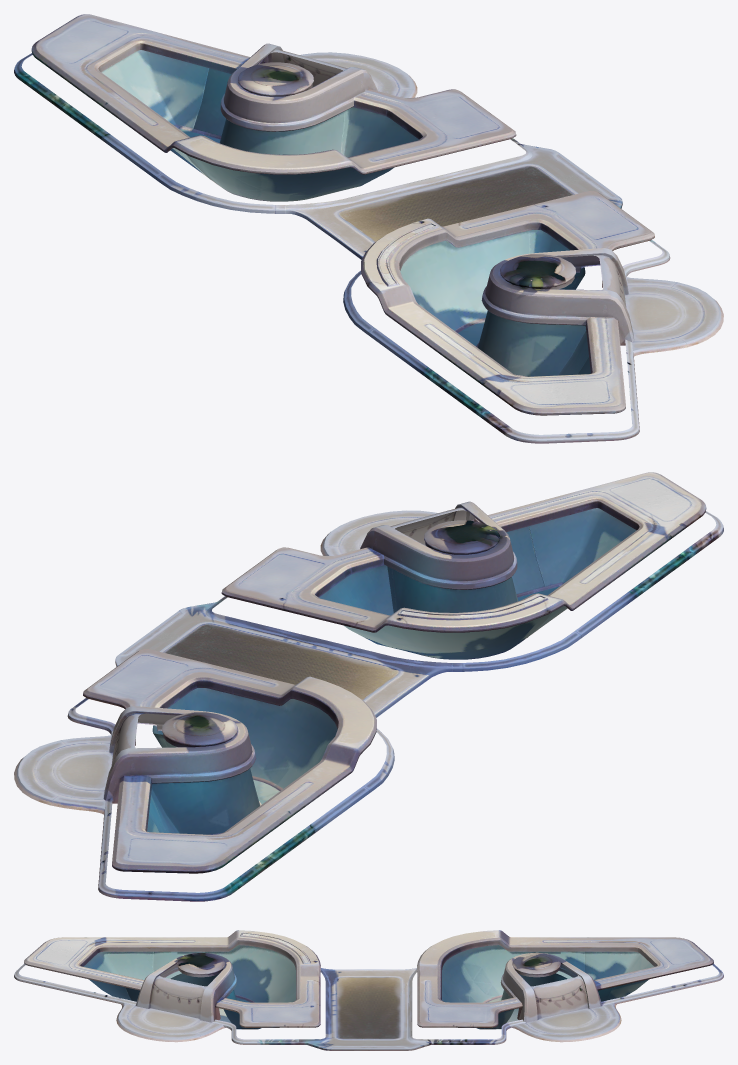
The model's file is pref_sm_beach_winter_bakegroups07_lv2.fbx.
3 views of the same model, one above another, from view 1: azimuth 30°, elevation 25°; view 2: azimuth 150°, elevation 25°; view 3: azimuth 270°, elevation 25° (orthographic). The views are drawn at different scales.
Visible parts, largest first — view 1: pref_sm_beach_winter_bakegroups07_lv2; view 2: pref_sm_beach_winter_bakegroups07_lv2; view 3: pref_sm_beach_winter_bakegroups07_lv2.
Part boxes in pixels (bbox=[...]): pref_sm_beach_winter_bakegroups07_lv2: bbox=[14, 14, 723, 443]; pref_sm_beach_winter_bakegroups07_lv2: bbox=[14, 472, 723, 901]; pref_sm_beach_winter_bakegroups07_lv2: bbox=[14, 930, 723, 1050].
Bounding box in the file's own units: 15.26 × 3.91 × 44.8.
